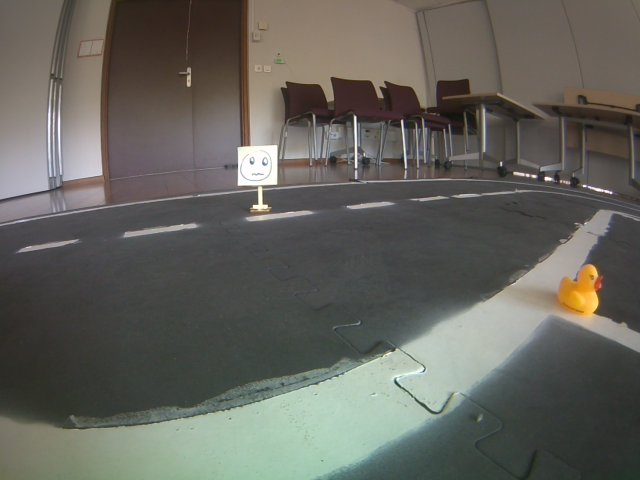Smiley: (234, 145, 279, 188)
